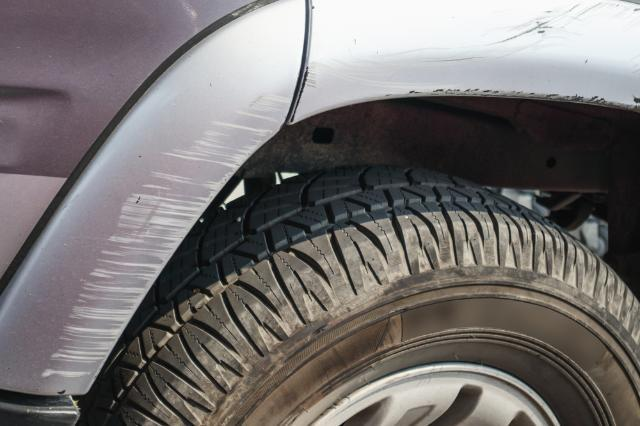scratch: (32, 88, 297, 384), (302, 0, 640, 111)
